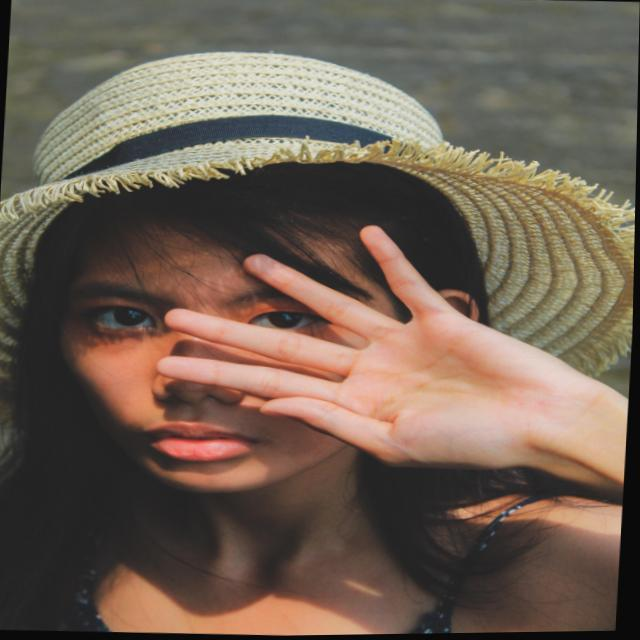7_mano_rostro: (162, 226, 538, 470)
